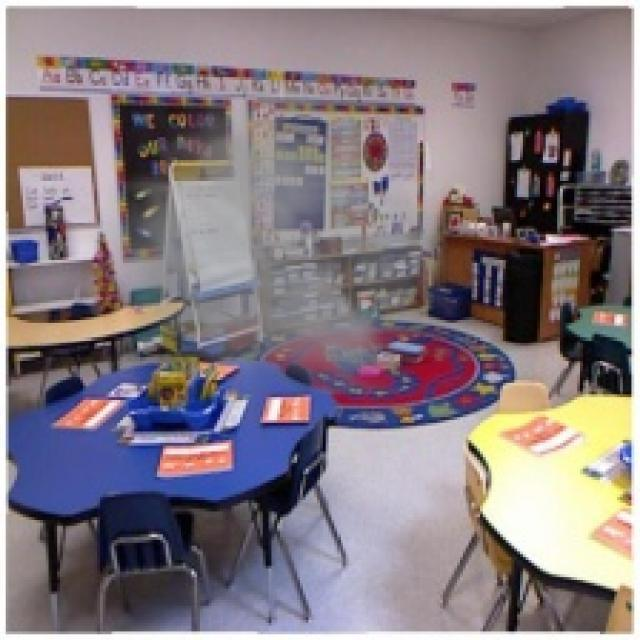Smoke: (80, 52, 472, 394)
